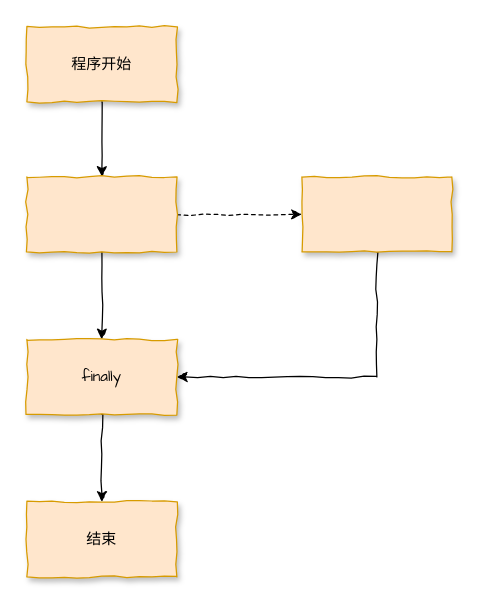
The diagram is 481 pixels wide and 608 high, and some of its shapes have lost their labels. The shapes that lost their labels are listed below. From the top down, each one's centre as x and y in pixels, then its label:
(102,216): try
(377,216): catch
